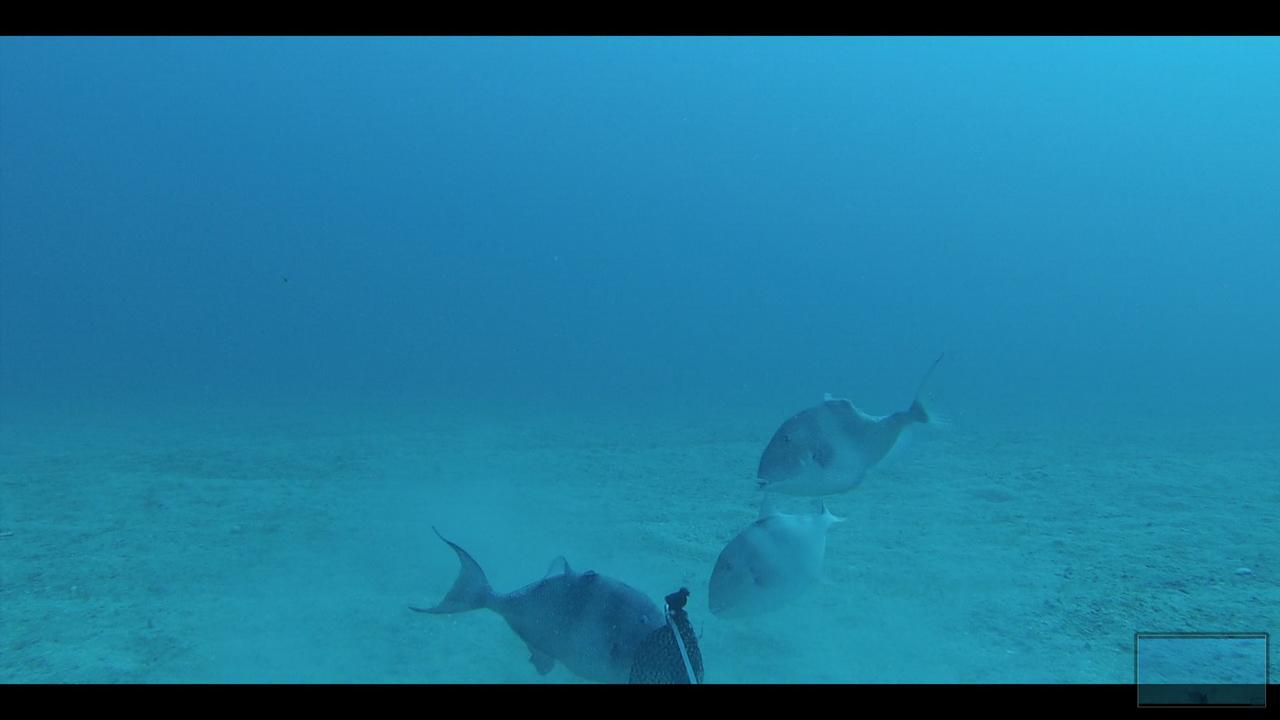balistes: (408, 520, 665, 681), (753, 348, 974, 500), (703, 488, 854, 624)
